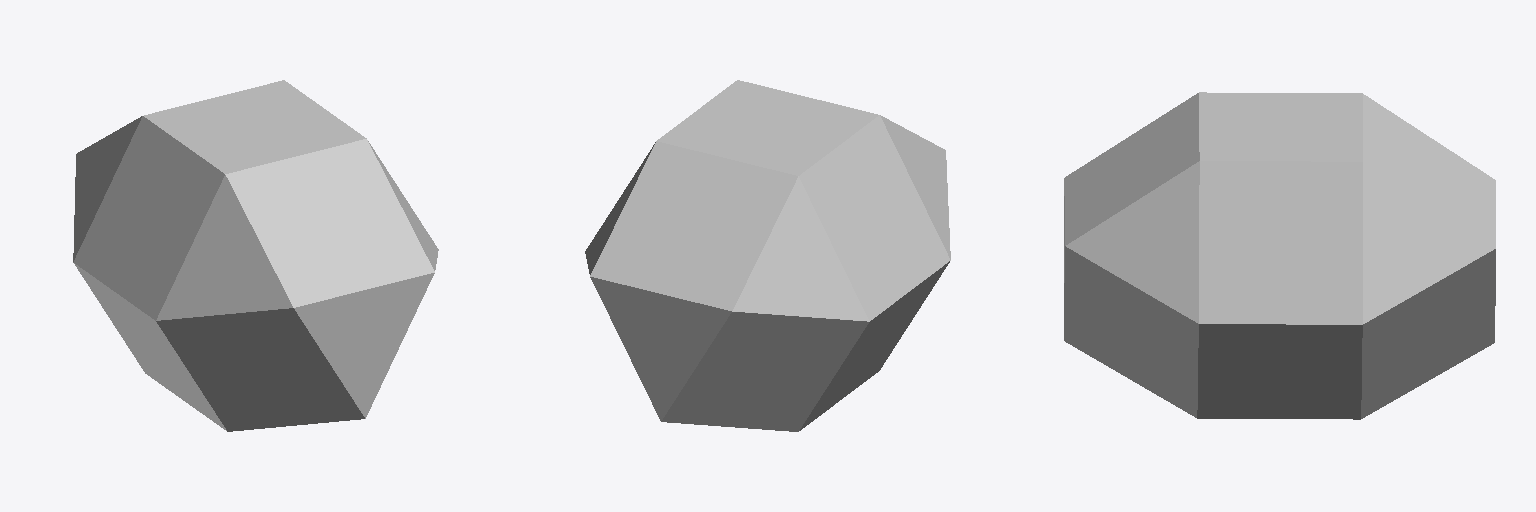
The model's file is ElongatedTriangularOrthoBiCupola.obj.
3 renders of one model, left to right at view 1: azimuth 30°, elevation 25°; view 2: azimuth 150°, elevation 25°; view 3: azimuth 270°, elevation 25°, orthographic.
Visible parts, largest first — view 1: ElongatedTriangularOrthoBiCupola; view 2: ElongatedTriangularOrthoBiCupola; view 3: ElongatedTriangularOrthoBiCupola.
Part boxes in pixels (left/top/right/bottom): ElongatedTriangularOrthoBiCupola: left=73, top=80, right=438, bottom=431; ElongatedTriangularOrthoBiCupola: left=585, top=80, right=950, bottom=431; ElongatedTriangularOrthoBiCupola: left=1064, top=92, right=1495, bottom=419.
Size of the model in its own units: 1.5 by 1.31 by 1.98.